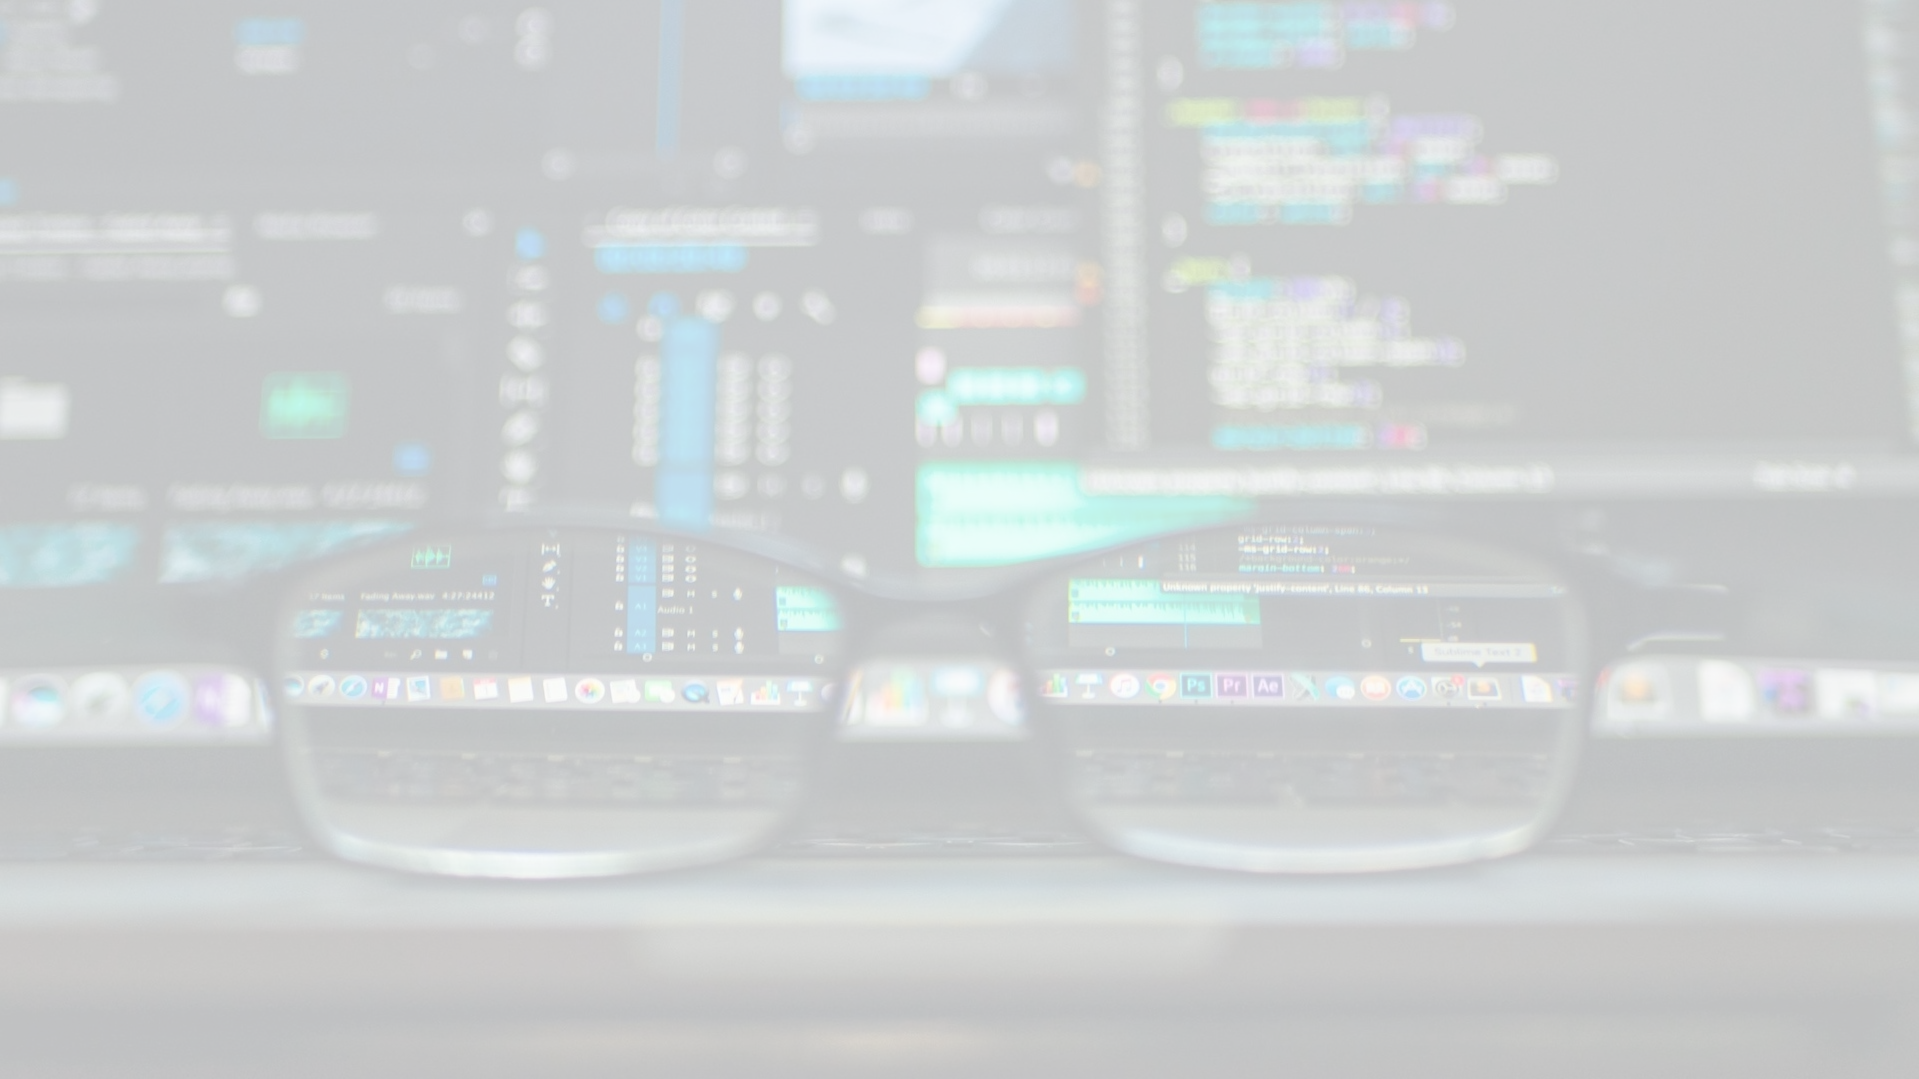

Layout of this report page (visuals, bound fields, positions):
{"tool":"powerbi","page":{"name":"Pruebas 1","canvas":[1280,720],"ordinal":0},"visuals":[{"type":"pieChart","title":"Tipos de Compensatorios Usados","fields":{"Category":["BIG_TIPO_COMPENSATORIO.TIP_COM_NOMBRE"],"Y":["CountNonNull(BIG_COMPENSATORIOS.COM_USUARIO_FINAL)"]},"box":[160,208,496,240],"z":0},{"type":"lineStackedColumnComboChart","title":"Compensatorios por funcionario al mes","fields":{"Category":["BIG_COMPENSATORIOS.COM_FECHA_INICIO.Variation.Date Hierarchy.Year","BIG_COMPENSATORIOS.COM_FECHA_INICIO.Variation.Date Hierarchy.Month"],"Series":["BIG_FUNCIONARIOS.FUN_NOMBRES"],"Y":["Count(BIG_COMPENSATORIOS.ID_COMPENSATORIO)"]},"box":[160,464,544,240],"z":1000},{"type":"clusteredBarChart","title":"Horas tomadas al mes por funcionario","fields":{"Category":["BIG_TOMA.TOM_FECHA_SOLI.Variation.Date Hierarchy.Month"],"Y":["Sum(BIG_TOMA.TOM_HORAS_SOLI)"],"Series":["BIG_FUNCIONARIOS.FUN_NOMBRES"]},"box":[720,464,544,240],"z":2000},{"type":"lineChart","title":"Compensatorios por funcionario según estado","fields":{"Category":["BIG_COMPENSATORIOS.COM_ESTADO"],"Y":["CountNonNull(BIG_COMPENSATORIOS.ID_FUNCIONARIO)"],"Series":["BIG_FUNCIONARIOS.FUN_NOMBRES"]},"box":[672,208,288,240],"z":3000},{"type":"lineChart","title":"Toma de Horas por funcionario según estado","fields":{"Category":["BIG_TOMA.TOM_ESTADO"],"Y":["CountNonNull(BIG_TOMA.ID_FUNCIONARIO)"],"Series":["BIG_FUNCIONARIOS.FUN_NOMBRES"]},"box":[976,208,288,240],"z":4000},{"type":"slicer","title":"FUNCIONARIO","fields":{"Values":["BIG_FUNCIONARIOS.ColumnaNombre"]},"box":[224,112,176,80],"z":4001},{"type":"card","fields":{"Values":["BIG_COMPENSATORIOS.HorasCompensatoriasPorMes2"]},"box":[1136,112,128,80],"z":4005},{"type":"slicer","title":"HORAS","box":[464,112,176,80],"z":4006},{"type":"slicer","title":"MES Y AÑO","fields":{"Values":["BIG_COMPENSATORIOS.Año","BIG_COMPENSATORIOS.Mes"]},"box":[704,112,176,80],"z":4007},{"type":"slicer","box":[944,112,176,80],"z":4008}]}

Visuals, with their boxes on the page's 1280x720 design canvas (x1, y1, x2, y2). These are canvas units, not pixel positions in the 1919x1079 screenshot, which may show the page scaled, cropped or inside an application window:
"Tipos de Compensatorios Usados" pieChart: x1=160, y1=208, x2=656, y2=448
"Compensatorios por funcionario al mes" lineStackedColumnComboChart: x1=160, y1=464, x2=704, y2=704
"Horas tomadas al mes por funcionario" clusteredBarChart: x1=720, y1=464, x2=1264, y2=704
"Compensatorios por funcionario según estado" lineChart: x1=672, y1=208, x2=960, y2=448
"Toma de Horas por funcionario según estado" lineChart: x1=976, y1=208, x2=1264, y2=448
"FUNCIONARIO" slicer: x1=224, y1=112, x2=400, y2=192
card - BIG_COMPENSATORIOS.HorasCompensatoriasPorMes2: x1=1136, y1=112, x2=1264, y2=192
"HORAS" slicer: x1=464, y1=112, x2=640, y2=192
"MES Y AÑO" slicer: x1=704, y1=112, x2=880, y2=192
slicer: x1=944, y1=112, x2=1120, y2=192
